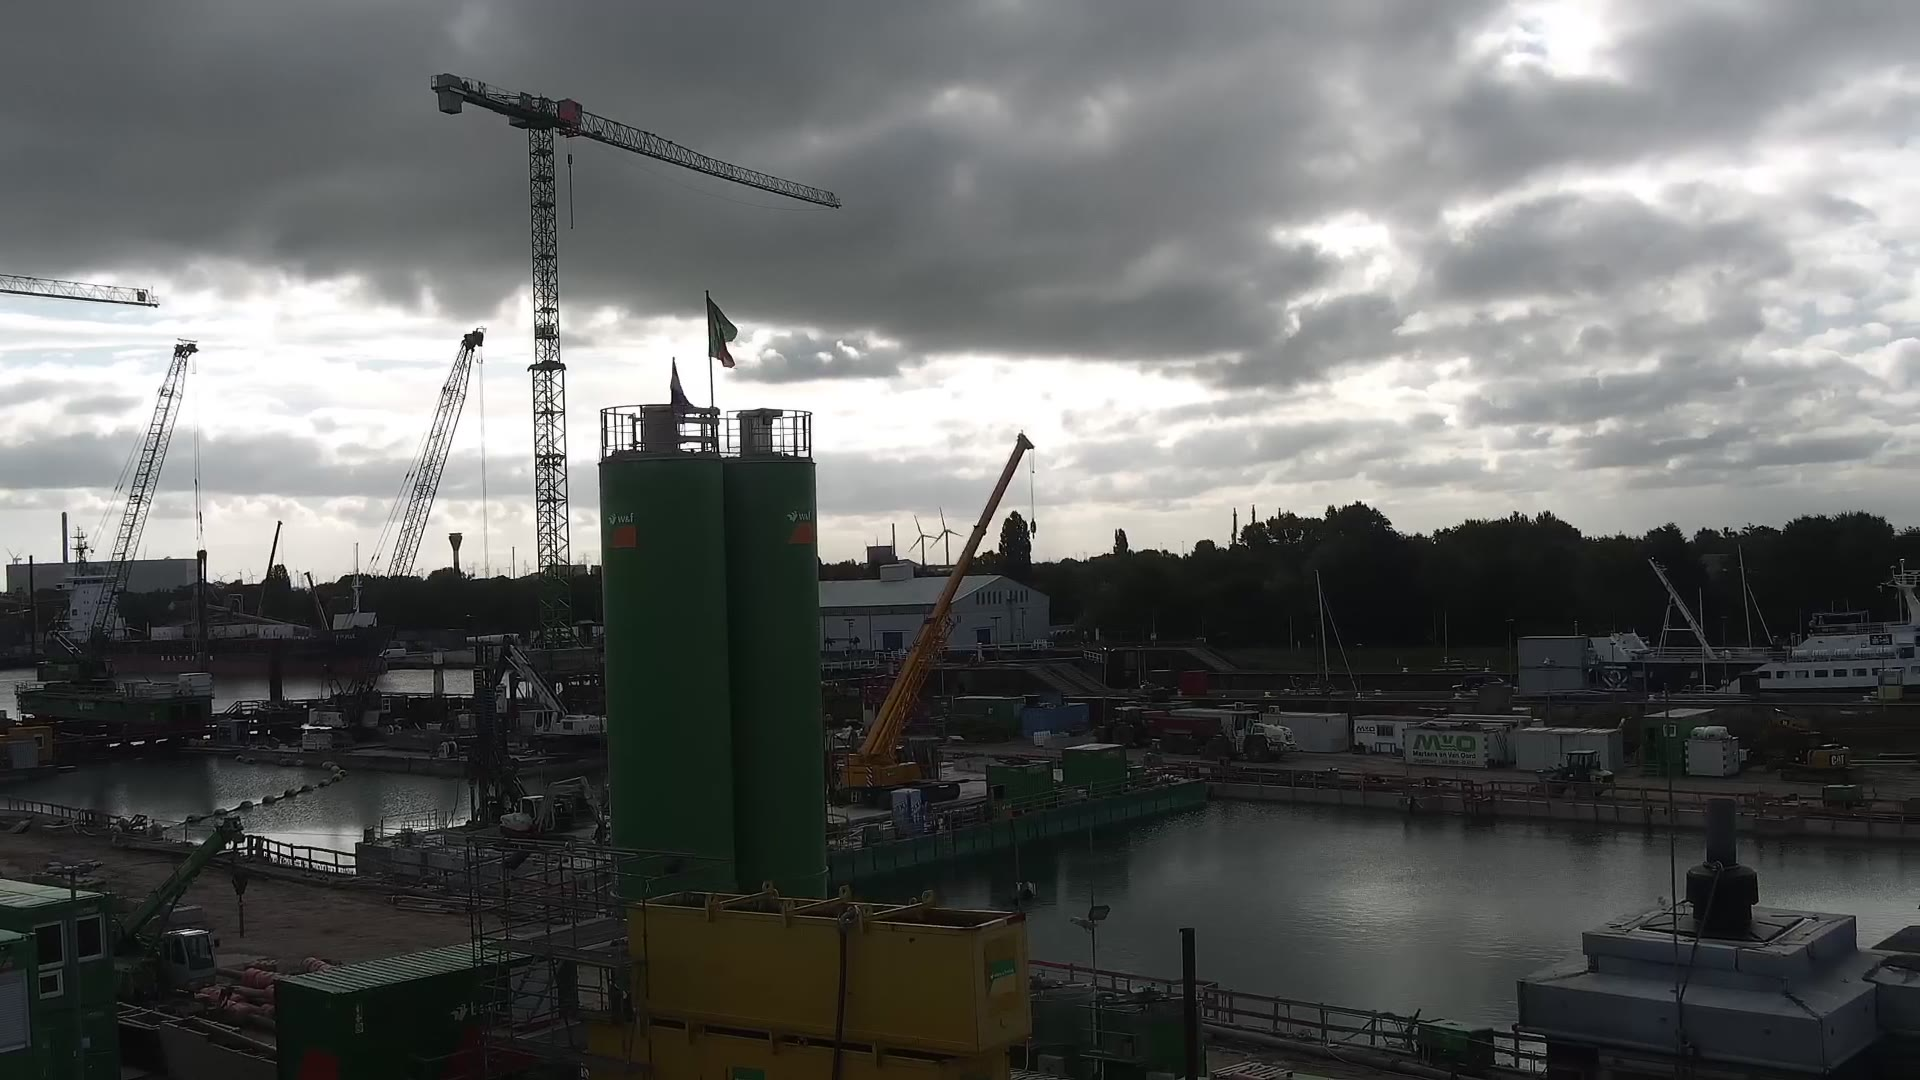land: (111, 814, 247, 1001), (491, 634, 608, 750), (1139, 709, 1298, 764), (498, 774, 611, 840), (1756, 708, 1850, 783), (1536, 749, 1615, 796), (1095, 703, 1150, 745), (378, 647, 406, 661)
sea: (44, 524, 396, 675), (1586, 542, 1919, 694)
